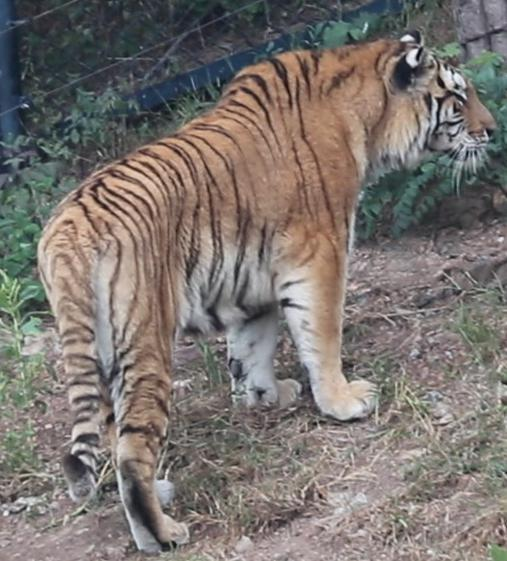tiger: (38, 30, 494, 552)
